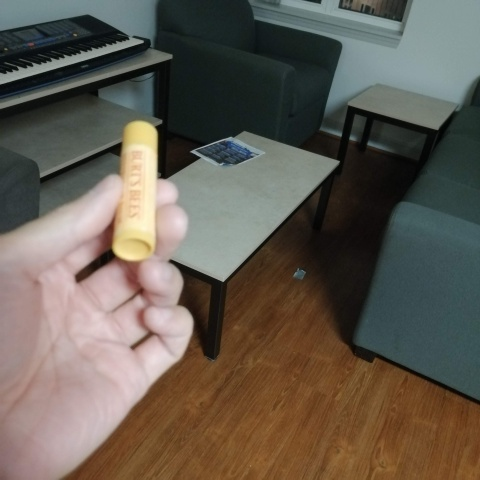chapstick: (109, 117, 161, 262)
